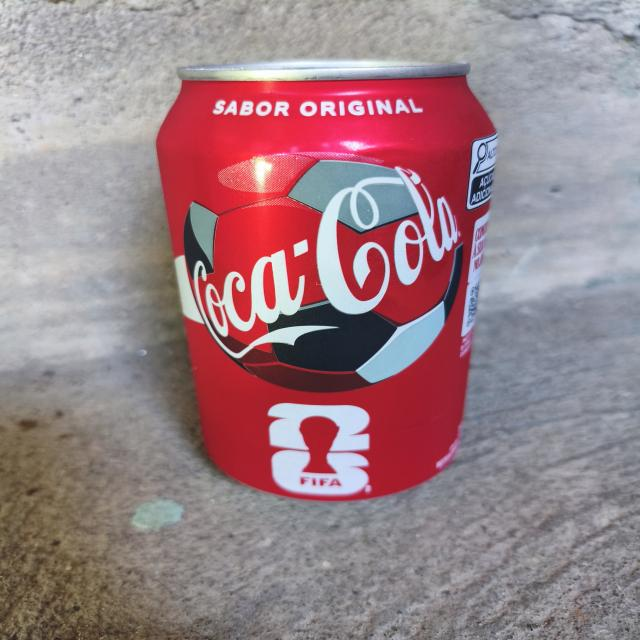Coca Cola: (153, 47, 515, 504)
